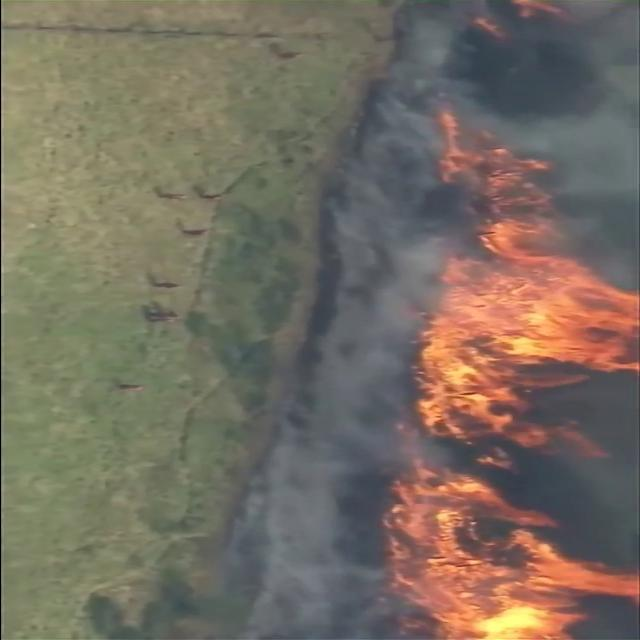Fire: (434, 111, 636, 451), (388, 481, 626, 633)
